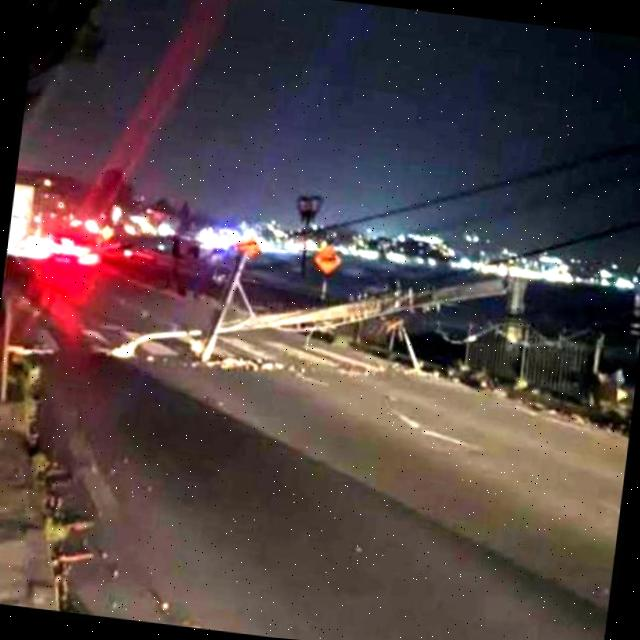Broken Pole: (111, 245, 531, 367)
